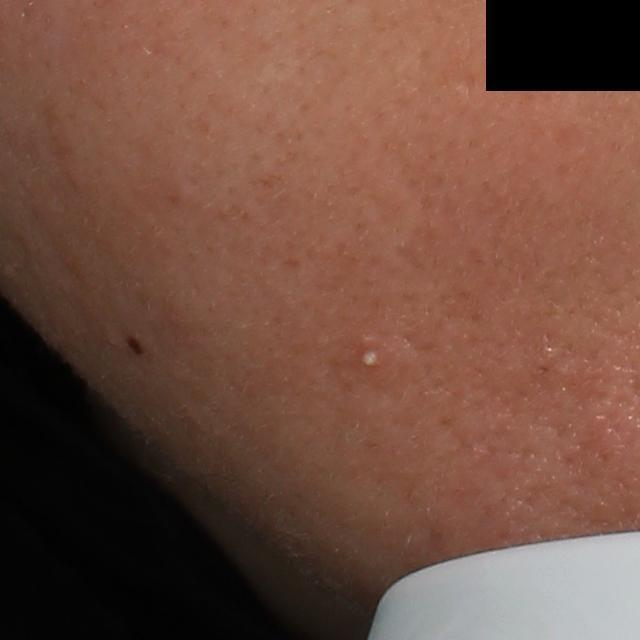nevus: (122, 329, 149, 360)
pustule: (349, 342, 387, 380)
